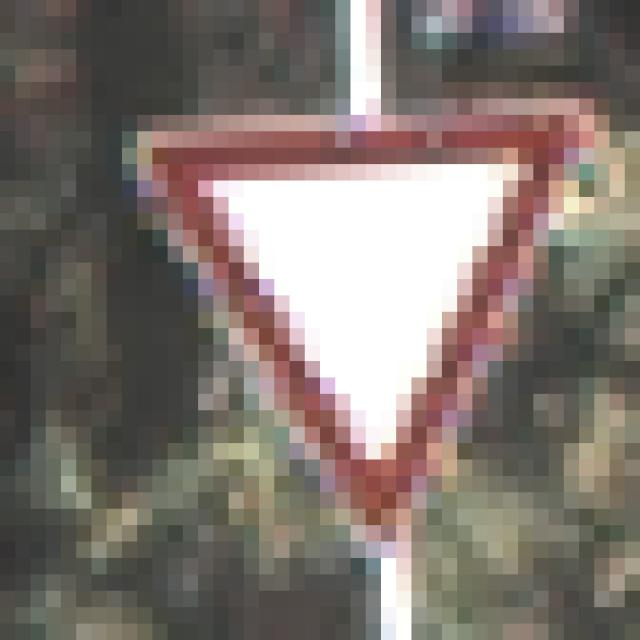Give Way: (77, 83, 550, 559)
